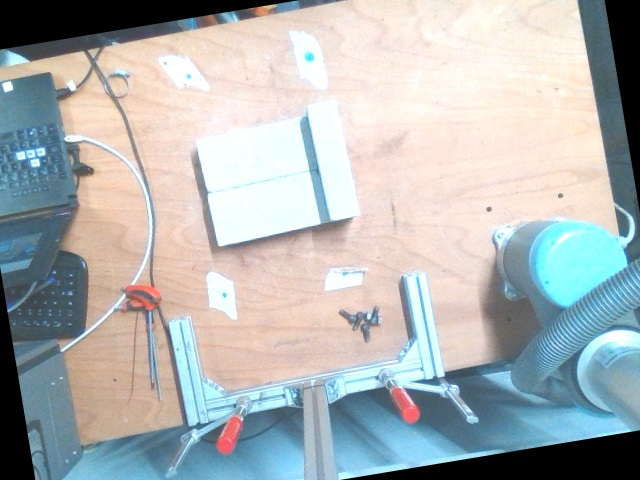brick-side: (305, 97, 361, 222)
